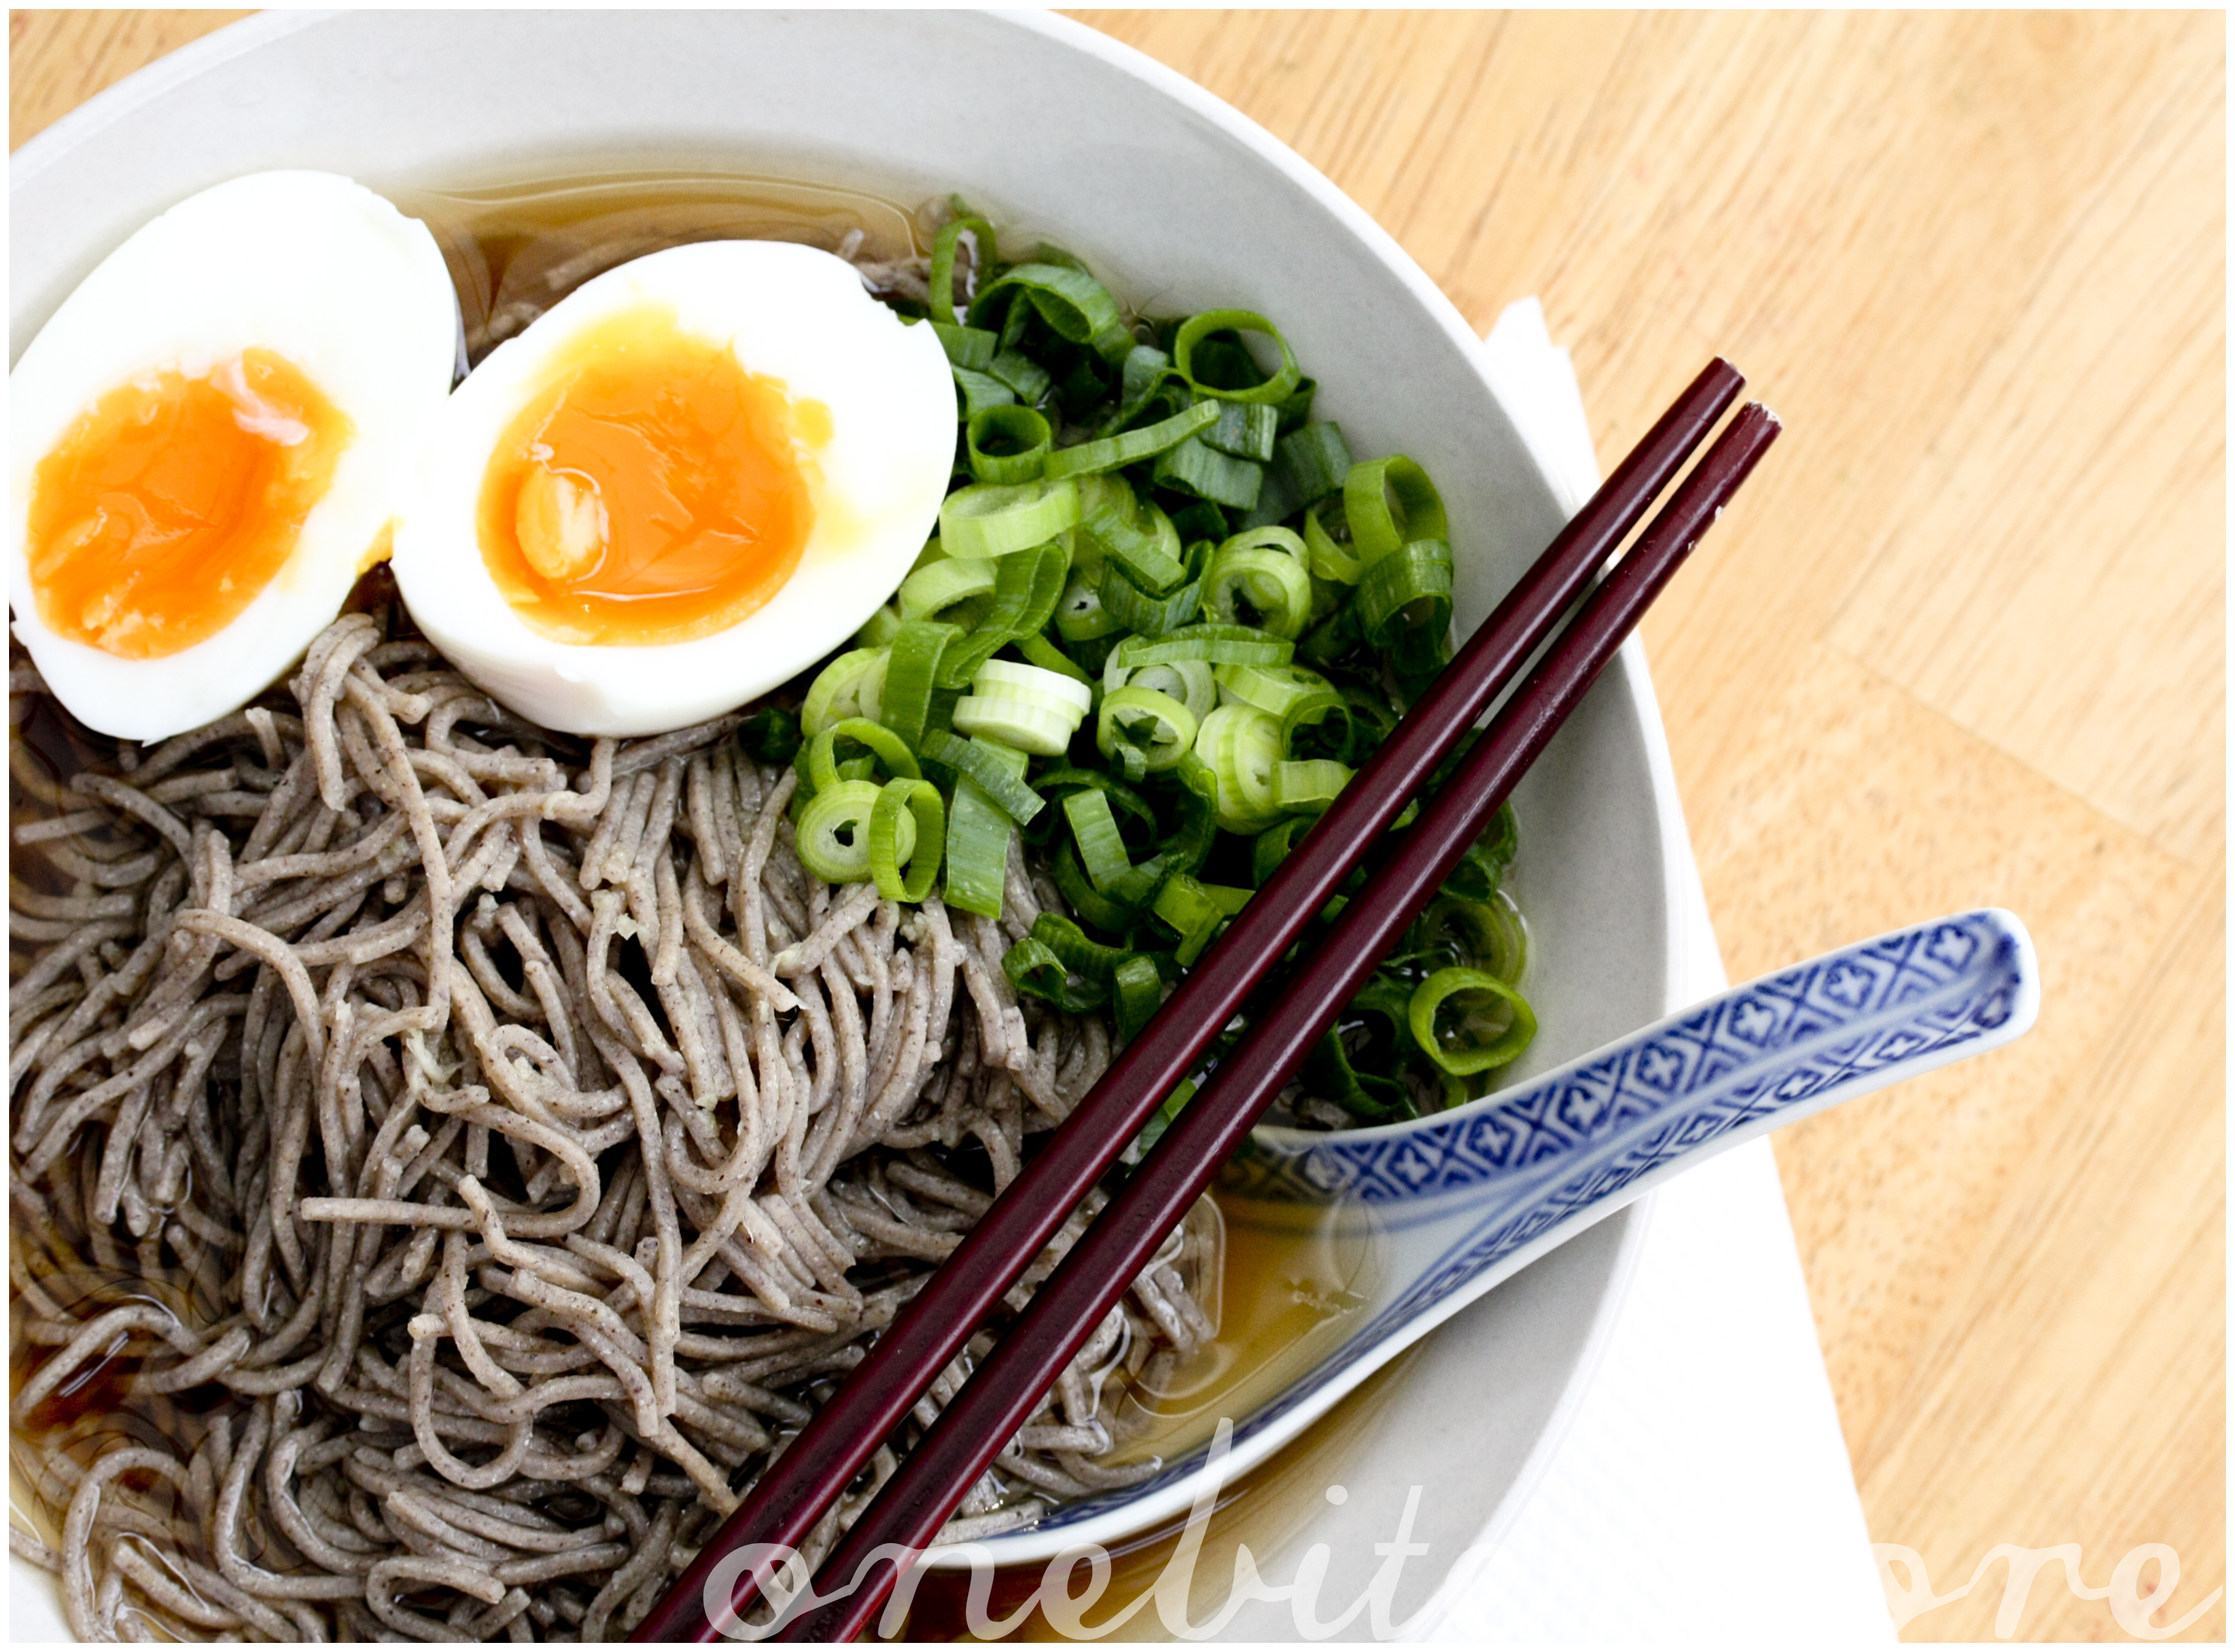Soba: (36, 604, 1204, 1652)
